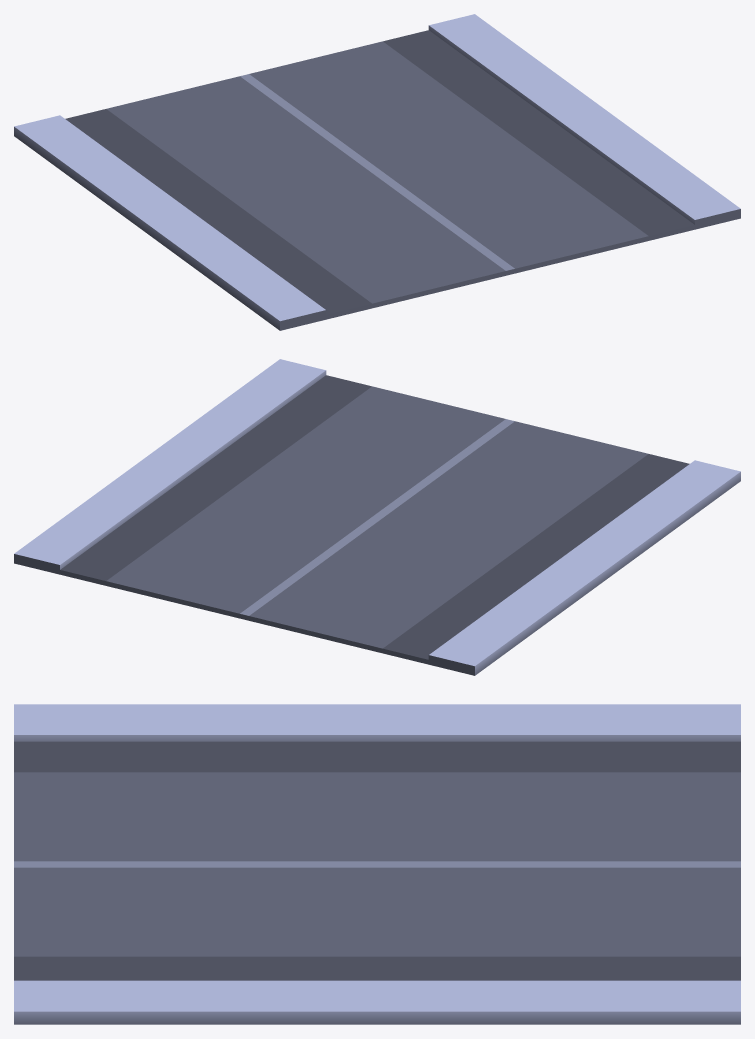
File: road-straight.glb
3 views of the same model, one above another, from view 1: azimuth 30°, elevation 25°; view 2: azimuth 150°, elevation 25°; view 3: azimuth 270°, elevation 25° (orthographic). The views are drawn at different scales.
Parts seen in each view (by area): view 1: road-straight; view 2: road-straight; view 3: road-straight.
Part boxes in pixels (<box>): road-straight: <box>14,14,740,330</box>; road-straight: <box>14,359,740,675</box>; road-straight: <box>14,704,740,1024</box>.
Bounding box in the file's own units: 1 × 0.02 × 1.
1 material, 1 textured.
